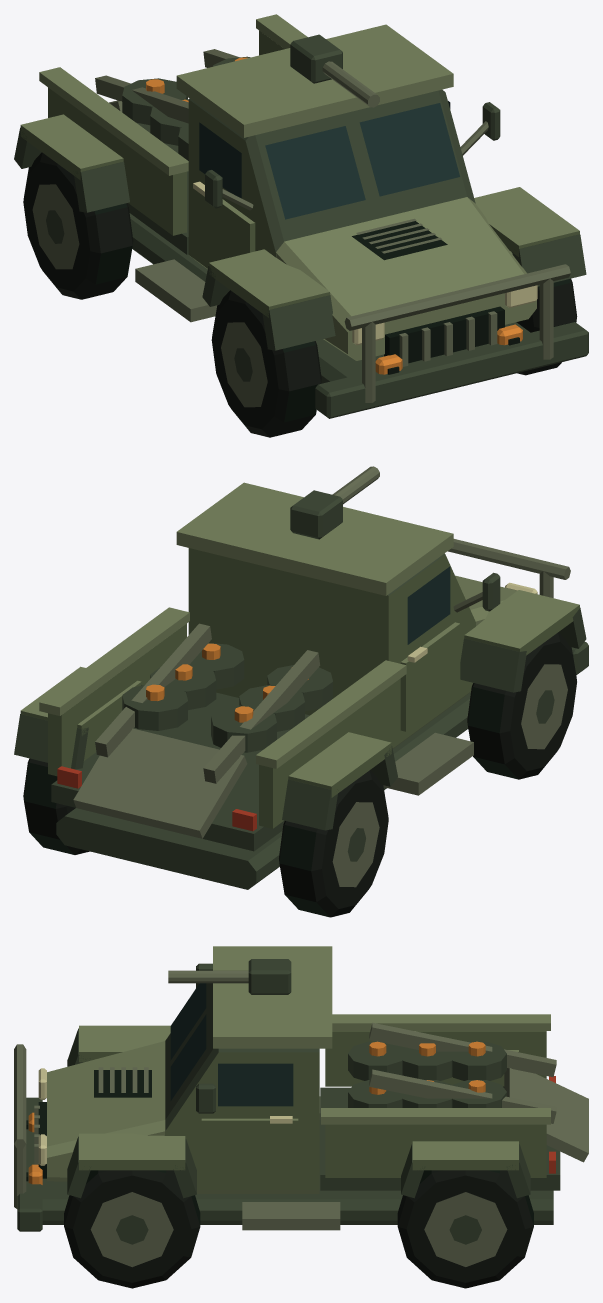
The model's file is minelayer_field.glb.
The picture shows the model from 3 angles, top to bottom: view 1: azimuth 30°, elevation 25°; view 2: azimuth 150°, elevation 25°; view 3: azimuth 270°, elevation 25°; orthographic projection. The views are drawn at different scales.
Parts seen in each view (by area): view 1: Body, Wheel_-1_1.18, Wheel_-1_-1.17, WeaponPitch, Wheel_1_-1.17; view 2: Body, Wheel_-1_1.18, Wheel_-1_-1.17, Wheel_1_1.18, WeaponPitch; view 3: Body, Wheel_1_1.18, Wheel_1_-1.17, WeaponPitch.
Part boxes in pixels (x1,y1,x2,y2): Body: (14, 14, 588, 418); Wheel_-1_1.18: (23, 152, 133, 299); Wheel_-1_-1.17: (211, 290, 321, 437); WeaponPitch: (290, 34, 379, 107); Wheel_1_-1.17: (512, 252, 577, 375); Body: (14, 482, 588, 889); Wheel_-1_1.18: (279, 770, 388, 917); Wheel_-1_-1.17: (467, 632, 576, 779); Wheel_1_1.18: (23, 758, 89, 854); WeaponPitch: (290, 466, 379, 539); Body: (14, 946, 588, 1231); Wheel_1_1.18: (397, 1170, 533, 1288); Wheel_1_-1.17: (64, 1170, 200, 1288); WeaponPitch: (168, 959, 291, 994).
Bounding box in the file's own units: 3.85 × 3.5 × 6.97.
1 material, 1 textured.
